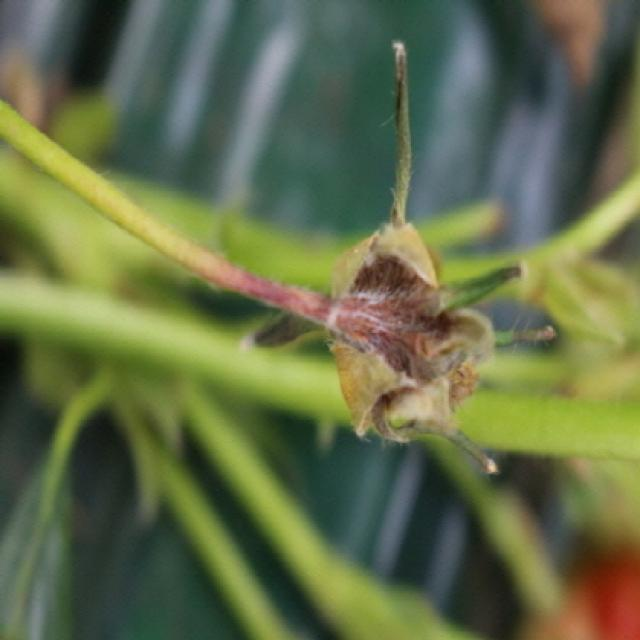Gray Mold: (246, 161, 559, 475)
